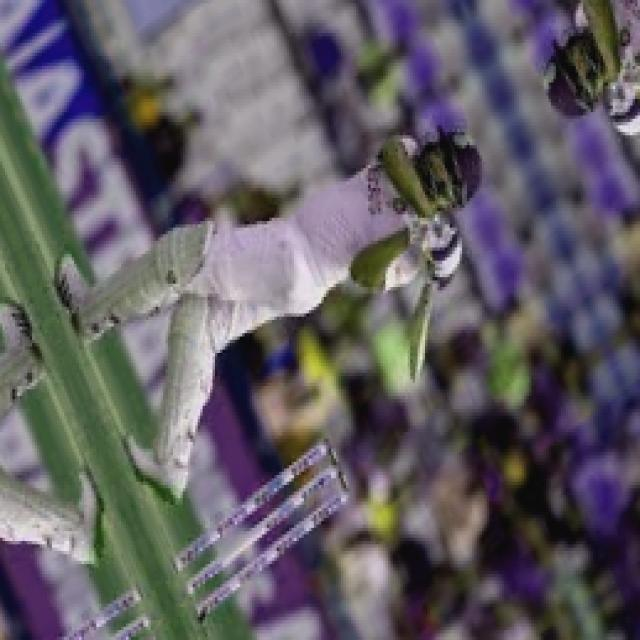toe: (410, 347, 422, 378)
